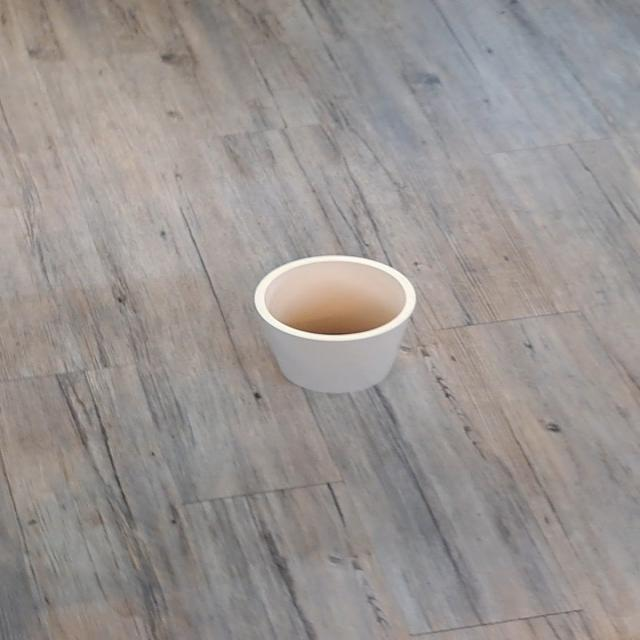CORAL: (235, 232, 438, 405)
